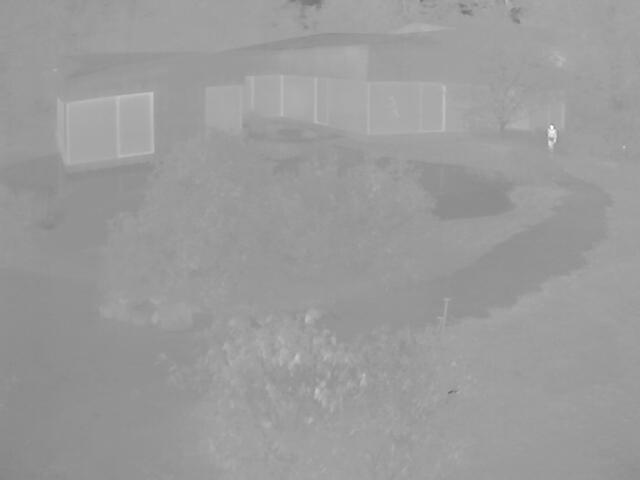person: (545, 124, 557, 149)
